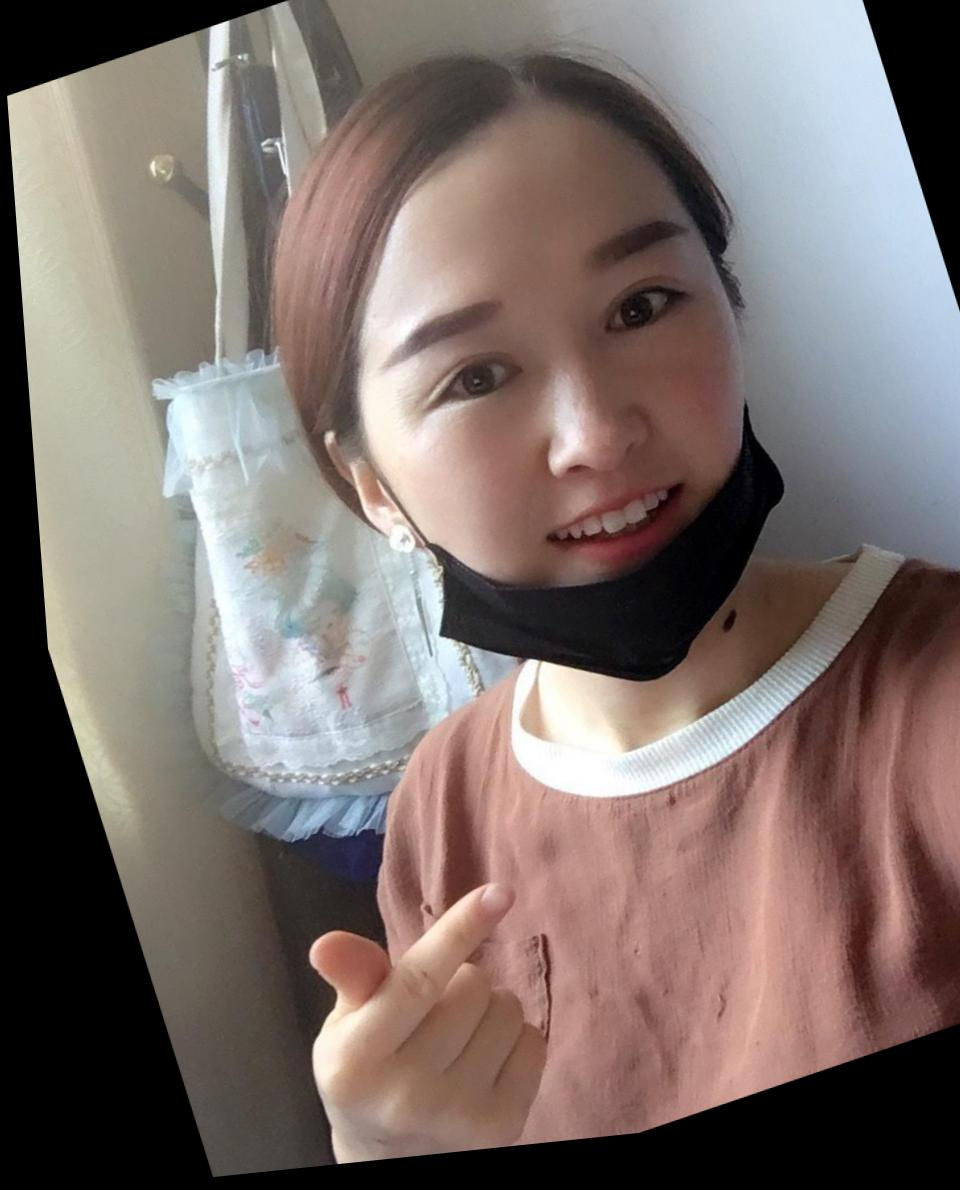WRONG: (317, 172, 811, 740)
